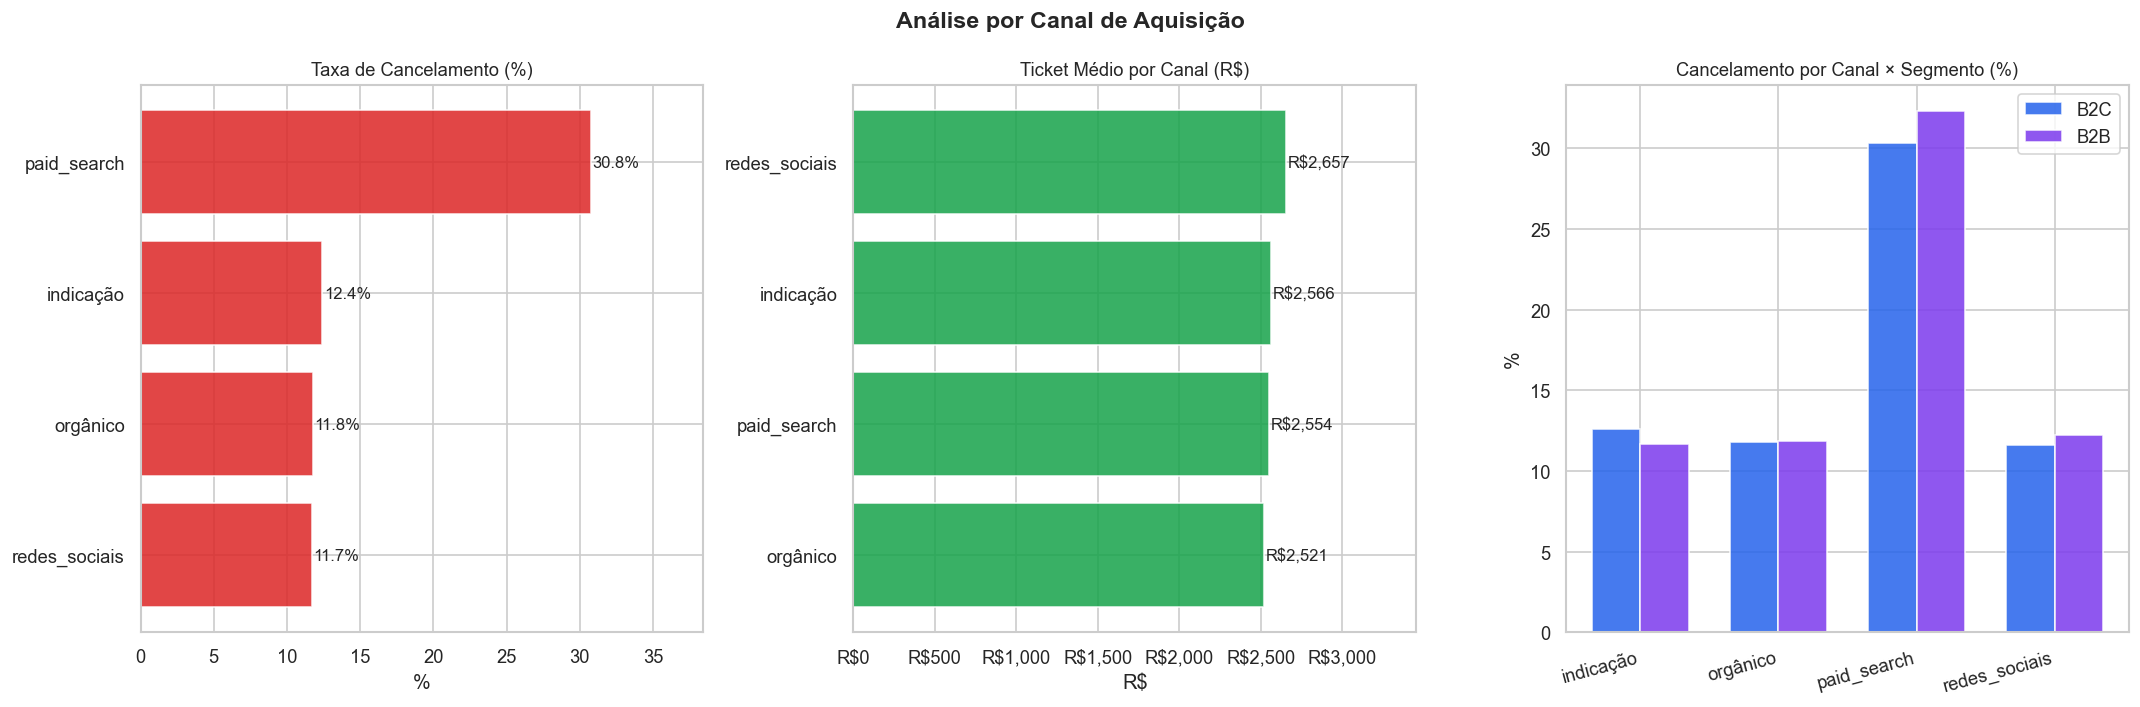

What the dashboard file says about the page in this screenshot:
{"tool":"powerbi","page":{"name":"Pergunta 5 - Canal de Aquisição","canvas":[1280,720],"ordinal":4},"visuals":[{"type":"clusteredBarChart","title":"Taxa Cancelamento % por Canal de Aquisição","fields":{"Category":["clientes.canal_aquisicao"],"Y":["Medidas.Taxa Cancelamento %"]},"box":[0,62,660,298],"z":0},{"type":"slicer","fields":{"Values":["d_calendario.Ano"]},"box":[0,0,254.9,64],"z":1000},{"type":"clusteredBarChart","title":"Ticket Medio por Canal de Aquisição","fields":{"Category":["clientes.canal_aquisicao"],"Y":["Medidas.Ticket Medio"]},"box":[660,64,620,298],"z":2000},{"type":"clusteredBarChart","title":"Taxa Cancelamento % por Canal de Aquisição e Segmento","fields":{"Category":["clientes.canal_aquisicao"],"Series":["clientes.segmento"],"Y":["Medidas.Taxa Cancelamento %"]},"box":[231,362,858,358],"z":3000}]}

Visuals, with their boxes on the page's 1280x720 design canvas (x1, y1, x2, y2). These are canvas units, not pixel positions in the 2140x707 screenshot, which may show the page scaled, cropped or inside an application window:
"Taxa Cancelamento % por Canal de Aquisição" clusteredBarChart: region(0, 62, 660, 360)
slicer - d_calendario.Ano: region(0, 0, 255, 64)
"Ticket Medio por Canal de Aquisição" clusteredBarChart: region(660, 64, 1280, 362)
"Taxa Cancelamento % por Canal de Aquisição e Segmento" clusteredBarChart: region(231, 362, 1089, 720)
